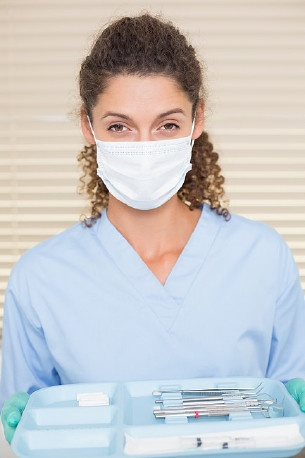Mask: (93, 103, 197, 208)
